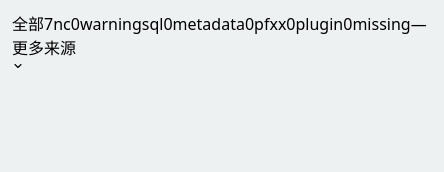
Test: 日志来源分层选择 › 已选的非常用与配置中缺失来源均保留可见且能取消
Step 1. Click the button with class "lg-chip" showing "missing—" → (390, 24), box [352,12,427,36]
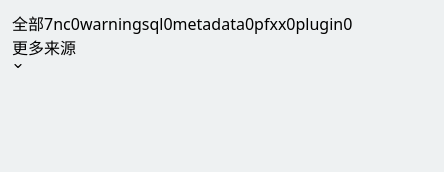
Expected: the text "missing" is gone
